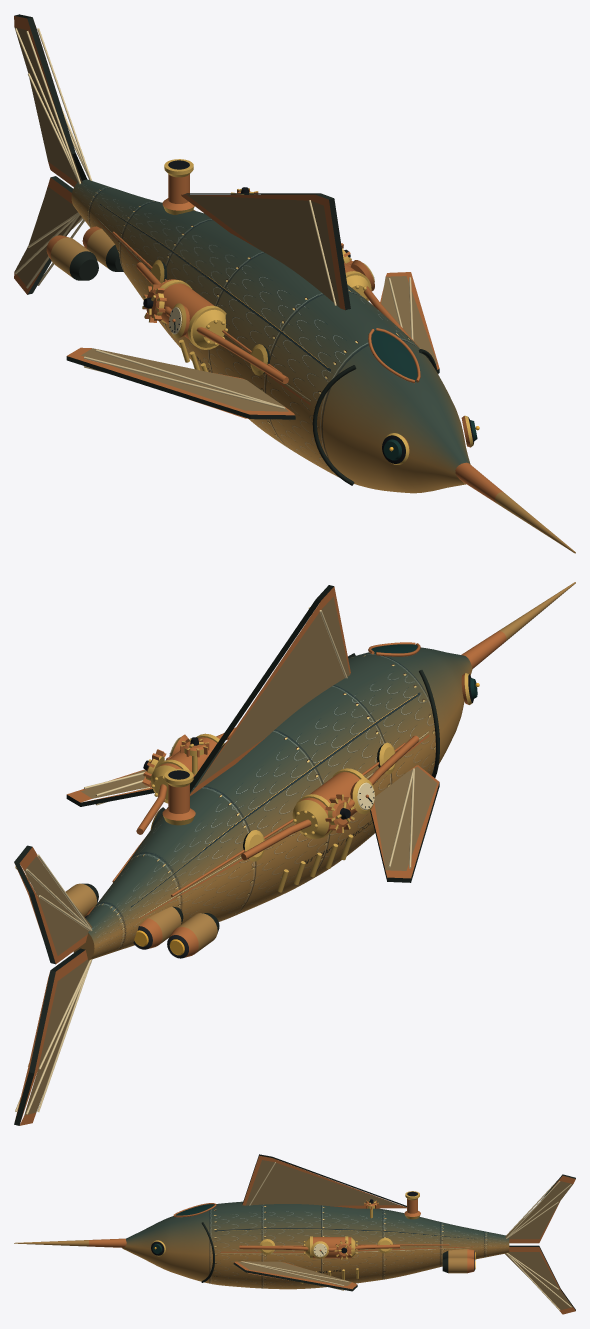
3 views of the same model, one above another, from view 1: azimuth 30°, elevation 25°; view 2: azimuth 150°, elevation 25°; view 3: azimuth 270°, elevation 25° (orthographic). The views are drawn at different scales.
Visible parts, largest first — view 1: marlin_hull; view 2: marlin_hull; view 3: marlin_hull.
Boxes of the visible parts, x1,y1,x2,y2 form: marlin_hull: (14,14,575,553); marlin_hull: (14,582,575,1125); marlin_hull: (14,1154,575,1314).
Size of the model in its own units: 92.3 by 80.93 by 259.
Materials: 1 (1 with a texture image).
